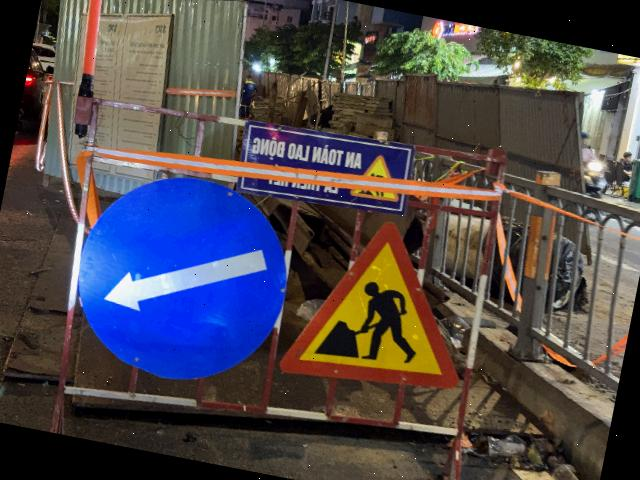cong-truong-dang-thi-cong: (277, 206, 486, 406)
huong-phai-di-vong-chuong-ngai-vat: (60, 157, 302, 399)
